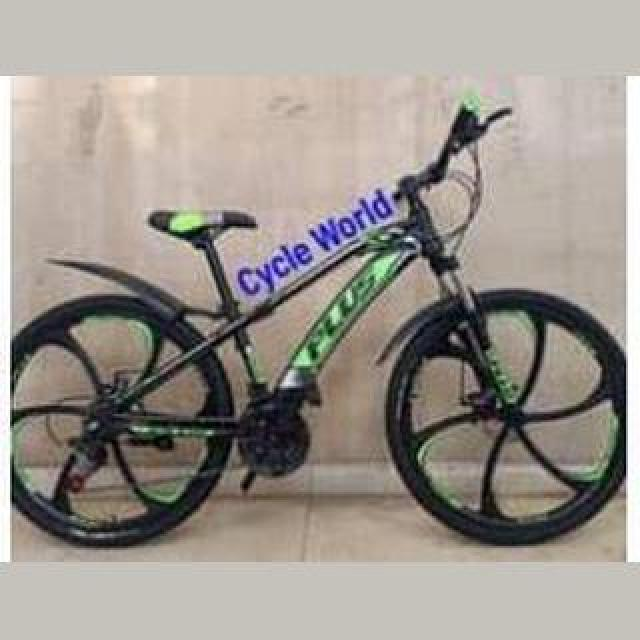Person: (4, 92, 630, 548)
